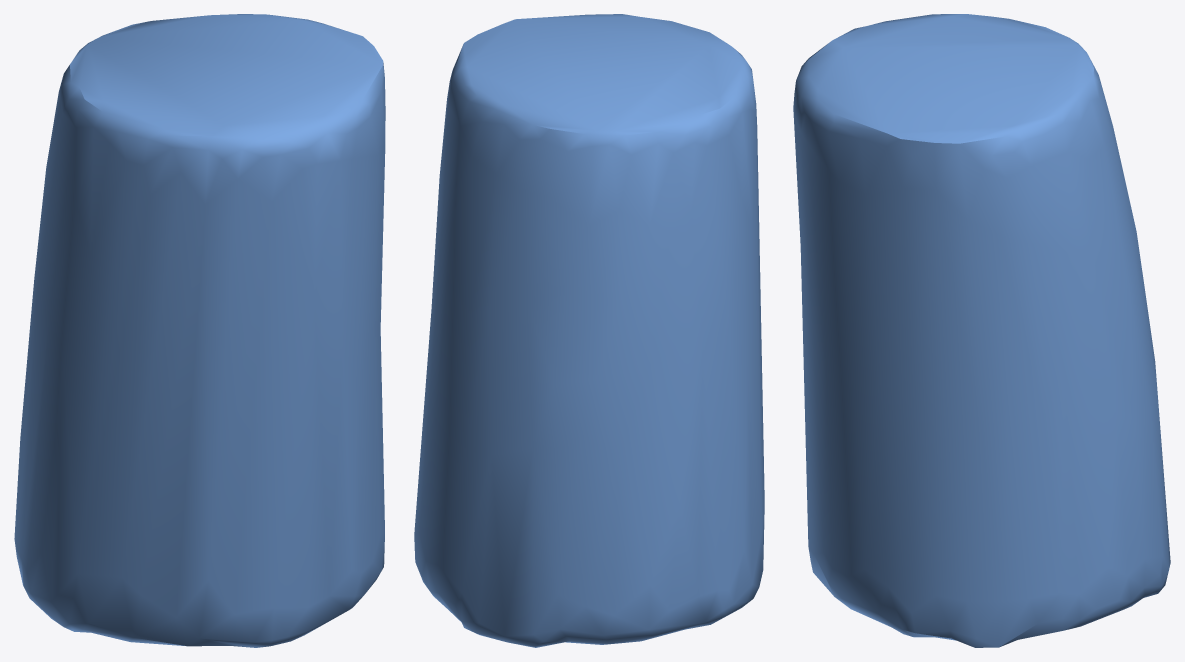
Rendered from veia-cava-superior.glb.
3 renders of one model, left to right at view 1: azimuth 30°, elevation 25°; view 2: azimuth 150°, elevation 25°; view 3: azimuth 270°, elevation 25°, orthographic. The views are drawn at different scales.
Parts seen in each view (by area): view 1: veia-cava-superior; view 2: veia-cava-superior; view 3: veia-cava-superior.
Part boxes in pixels (bbox=[...]): veia-cava-superior: bbox=[14, 14, 385, 647]; veia-cava-superior: bbox=[414, 14, 764, 647]; veia-cava-superior: bbox=[793, 14, 1170, 647].
Size of the model in its own units: 0.0225 by 0.035 by 0.0237.
